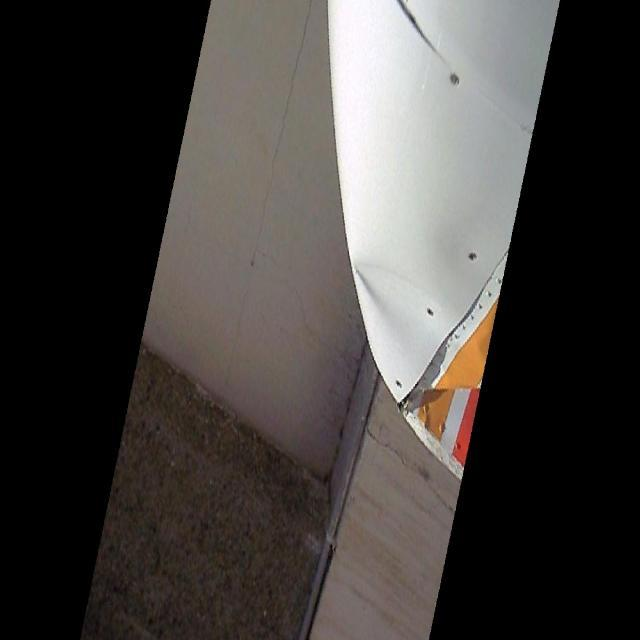dent: (353, 261, 476, 460)
